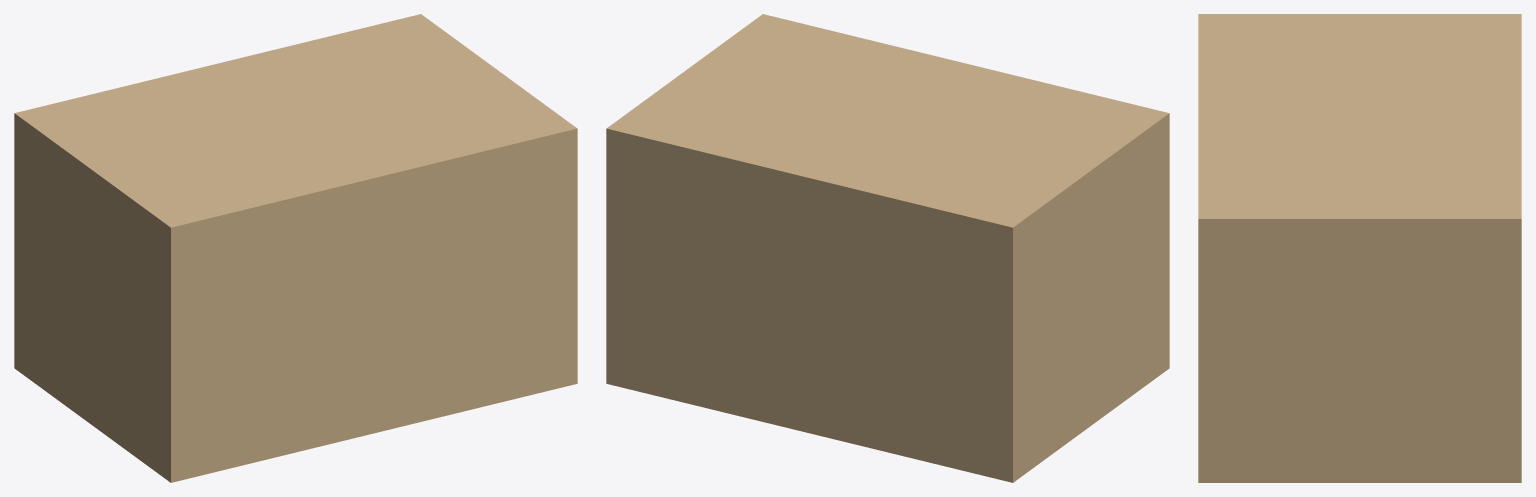
The model's file is dining_table.glb.
3 views of the same model, side by side, from view 1: azimuth 30°, elevation 25°; view 2: azimuth 150°, elevation 25°; view 3: azimuth 270°, elevation 25° (orthographic). The views are drawn at different scales.
Size of the model in its own units: 1.2 by 0.72 by 0.8.
